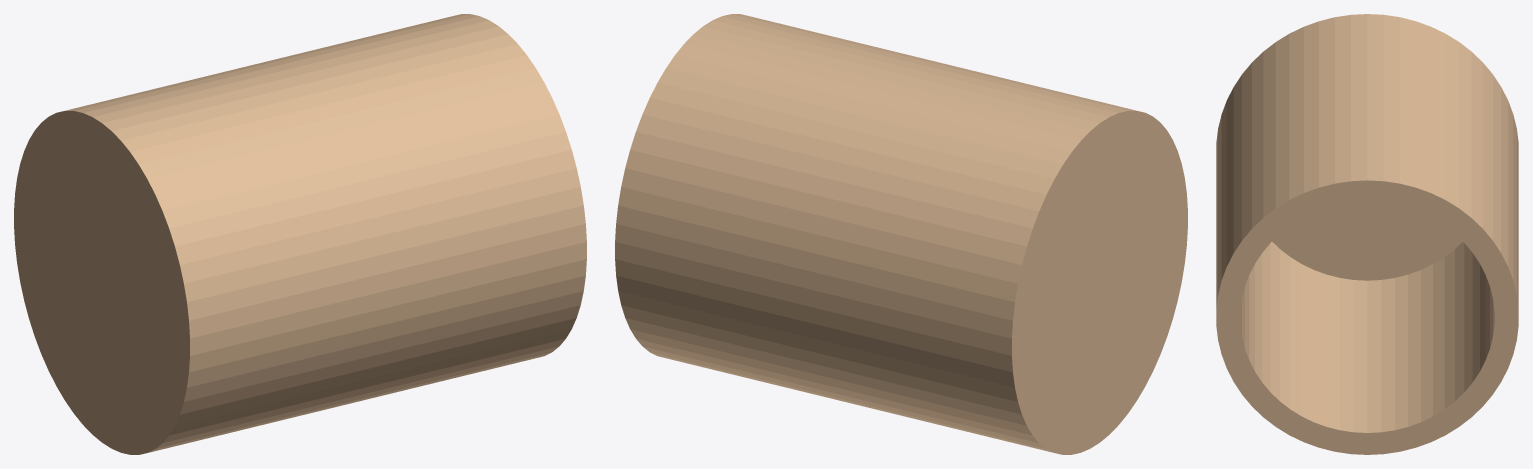
Rendered from thermostat-capsule.glb.
3 renders of one model, left to right at view 1: azimuth 30°, elevation 25°; view 2: azimuth 150°, elevation 25°; view 3: azimuth 270°, elevation 25°, orthographic. The views are drawn at different scales.
Parts seen in each view (by area): view 1: world; view 2: world; view 3: world.
Boxes of the visible parts, x1,y1,x2,y2 form: world: (14,14,586,454); world: (615,14,1187,454); world: (1216,14,1518,454).
Bounding box in the file's own units: 0.013 × 0.01 × 0.00999.
